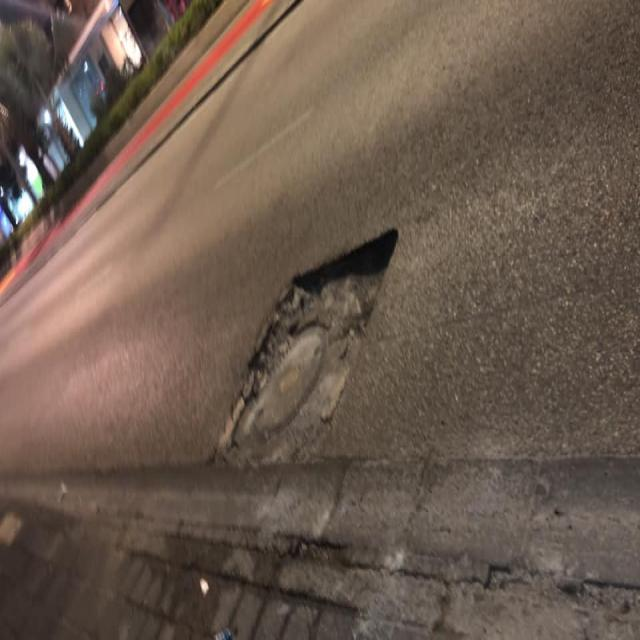major_pothole: (205, 227, 400, 462)
